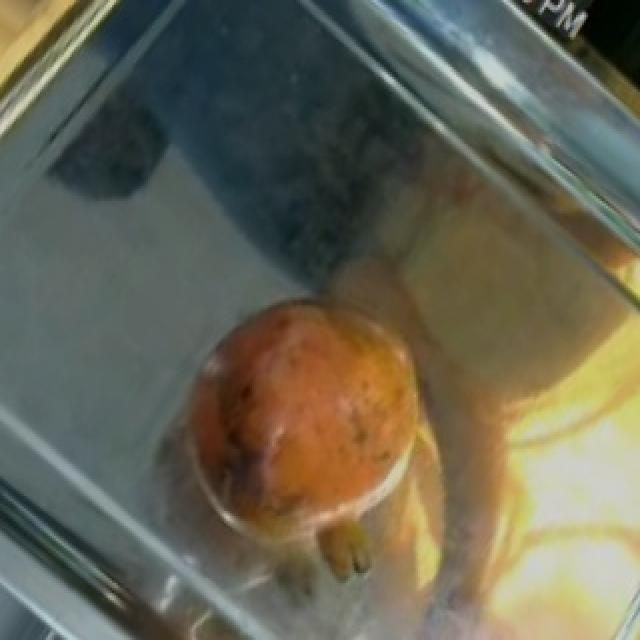fruit: (152, 266, 452, 534)
